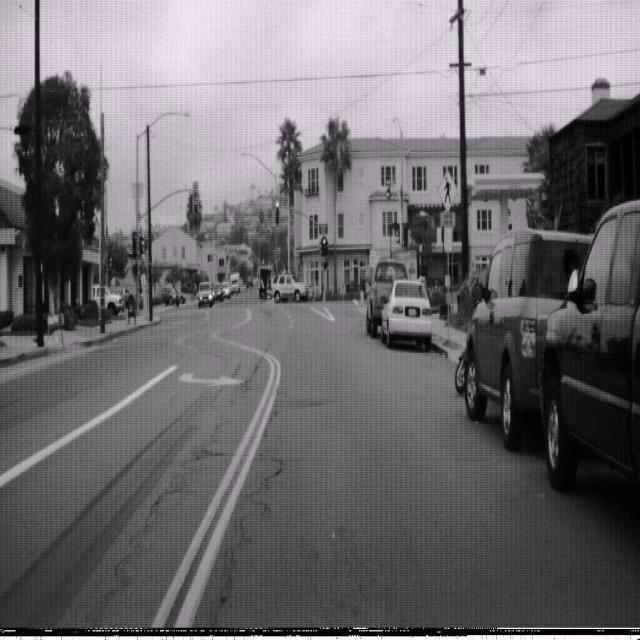pedestrianCrossing: (436, 166, 458, 212)
